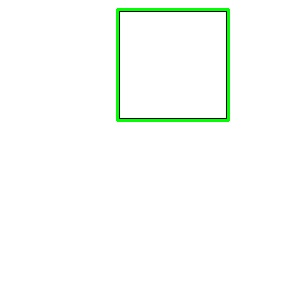line_segment: (116, 8, 230, 122)
